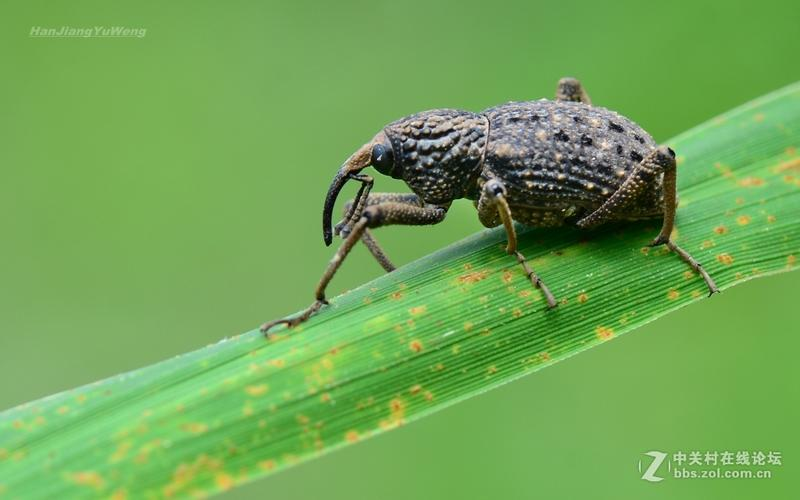Curculionidae: (259, 75, 722, 341)
